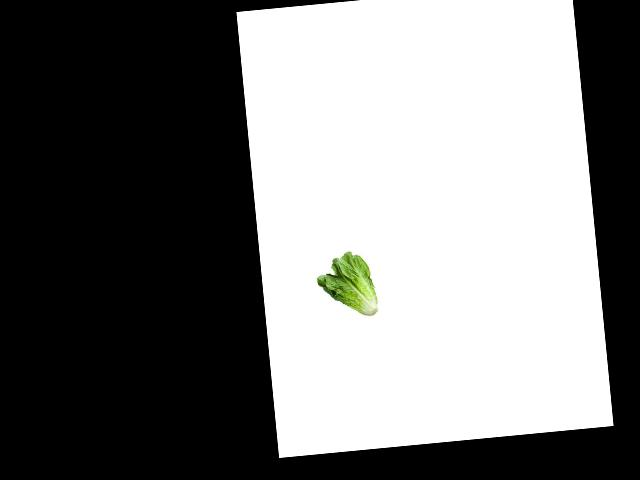lettuce: (312, 249, 384, 324)
